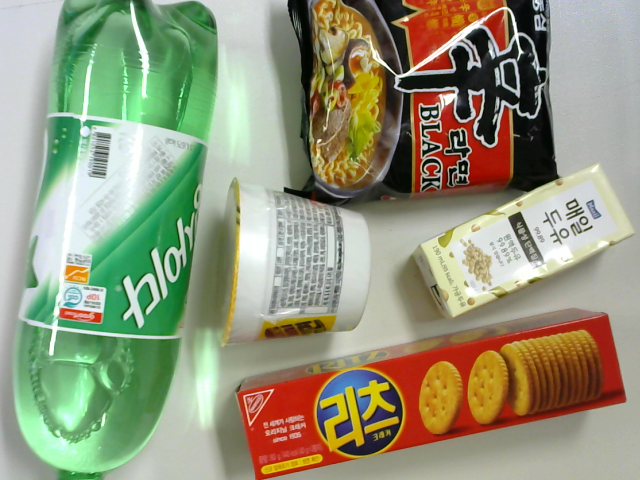99.89_Soymilk: (417, 168, 635, 320)
Chilseong_Cider_1.5L: (17, 2, 218, 480)
Hejangmini: (219, 180, 369, 348)
Ritz_Cracker: (227, 310, 637, 480)
Sinramen_Black: (281, 2, 565, 200)
